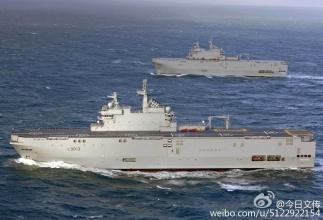warship: (1, 86, 320, 170), (148, 33, 291, 77)
